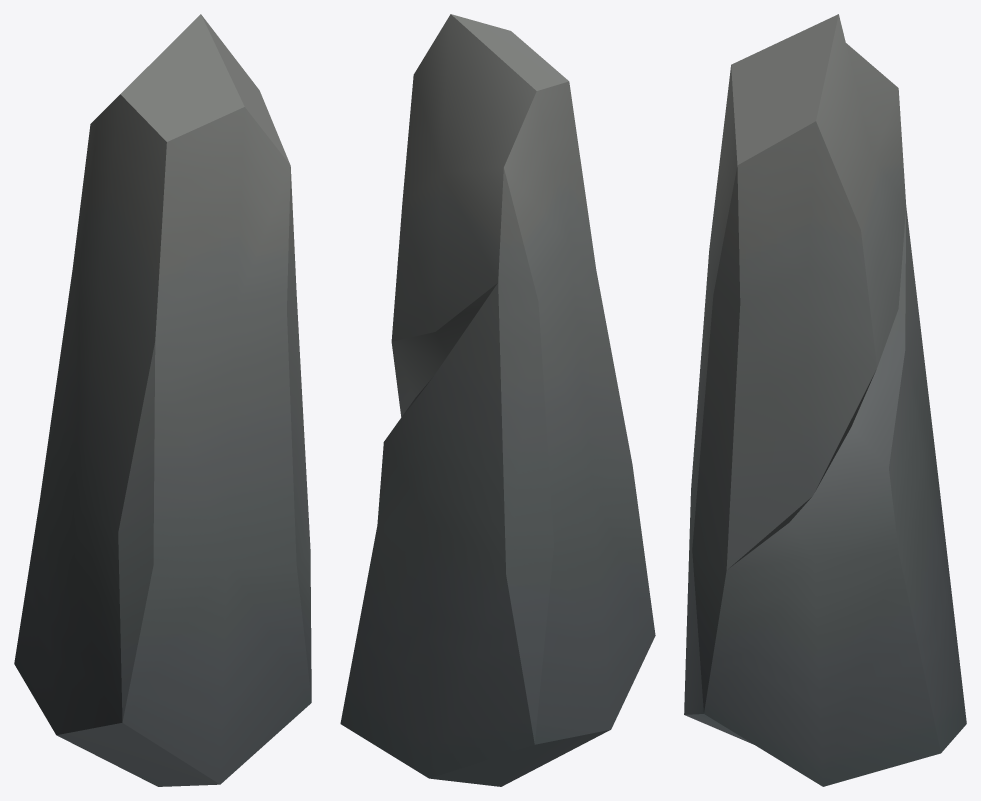
Rendered from Rock_Medium_B.fbx.
3 views of the same model, side by side, from view 1: azimuth 30°, elevation 25°; view 2: azimuth 150°, elevation 25°; view 3: azimuth 270°, elevation 25° (orthographic). The views are drawn at different scales.
Visible parts, largest first — view 1: Rock_Medium_B; view 2: Rock_Medium_B; view 3: Rock_Medium_B.
Boxes of the visible parts, bbox=[...] form: Rock_Medium_B: bbox=[14, 14, 311, 786]; Rock_Medium_B: bbox=[340, 14, 655, 786]; Rock_Medium_B: bbox=[684, 14, 966, 786].
Bounding box in the file's own units: 74.85 × 80.24 × 246.
Materials: 1 (1 with a texture image).
